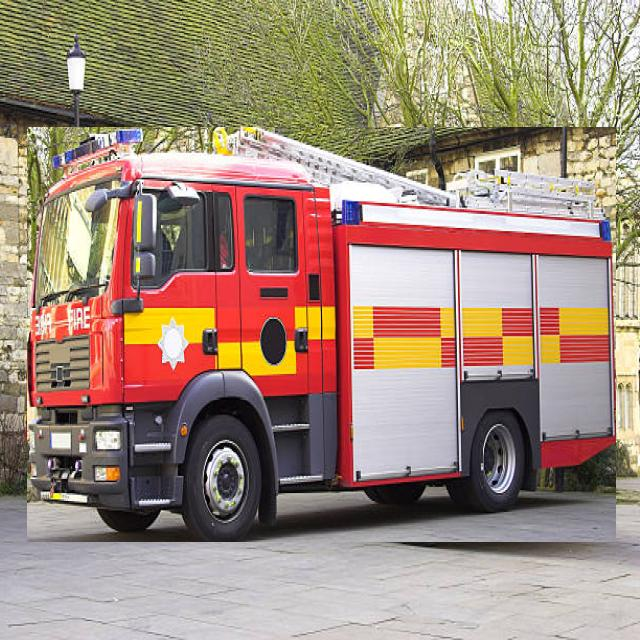emergency: (27, 127, 615, 542)
